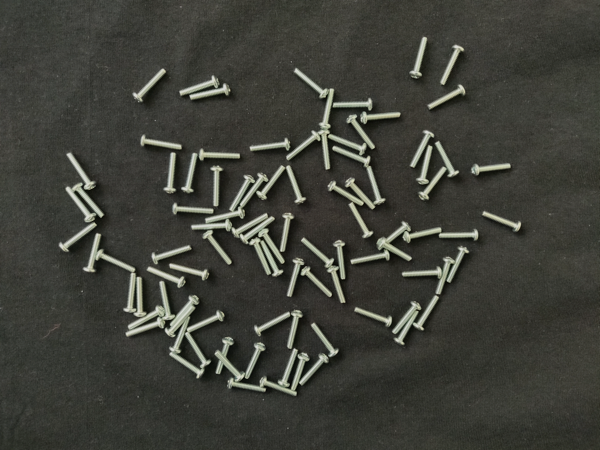longscrew: (58, 221, 100, 254), (66, 151, 100, 191), (71, 182, 106, 220), (132, 67, 167, 104), (438, 44, 467, 87), (293, 67, 330, 100), (65, 186, 97, 224), (202, 230, 234, 267), (256, 164, 287, 202), (284, 131, 322, 162), (227, 173, 256, 213), (164, 305, 197, 340), (301, 237, 336, 270), (408, 129, 436, 170), (346, 114, 377, 151), (239, 172, 269, 210), (427, 84, 467, 112), (377, 220, 412, 252), (95, 249, 138, 275), (240, 215, 276, 246), (418, 166, 449, 202), (311, 322, 341, 359), (213, 350, 247, 382), (298, 354, 330, 388), (392, 300, 422, 336), (258, 229, 287, 266), (253, 311, 291, 339), (259, 240, 287, 278), (347, 202, 375, 240), (301, 267, 334, 299), (345, 178, 377, 211), (169, 295, 200, 329), (185, 310, 227, 335), (169, 352, 206, 380), (184, 332, 212, 369), (413, 295, 440, 333), (434, 140, 461, 178), (231, 213, 270, 239), (393, 310, 420, 347), (145, 266, 188, 289), (178, 75, 221, 98), (327, 181, 365, 207), (243, 342, 268, 381), (151, 244, 193, 267), (481, 210, 523, 233), (376, 237, 413, 263), (277, 348, 301, 388), (447, 245, 471, 285), (127, 306, 165, 331), (124, 317, 167, 339), (249, 237, 272, 278), (286, 165, 309, 206), (331, 145, 372, 168), (434, 256, 457, 297), (169, 316, 193, 355), (327, 134, 369, 156), (409, 36, 430, 80), (326, 265, 348, 306), (365, 165, 387, 206), (82, 233, 103, 275), (214, 337, 236, 377), (259, 377, 299, 399), (189, 83, 232, 103), (353, 307, 393, 328), (289, 354, 311, 392), (285, 310, 305, 351), (286, 258, 306, 299), (169, 262, 212, 281), (181, 152, 200, 195), (319, 87, 337, 132), (140, 134, 184, 152), (416, 145, 435, 186), (158, 281, 176, 323), (204, 207, 246, 225), (350, 249, 391, 267), (402, 226, 443, 244), (226, 378, 269, 395), (162, 152, 179, 195), (249, 136, 292, 153), (316, 129, 333, 172), (279, 212, 295, 254), (199, 147, 242, 162), (470, 162, 512, 177), (171, 202, 215, 216), (123, 273, 138, 314), (360, 111, 403, 125), (401, 266, 444, 280), (333, 98, 375, 112), (438, 228, 480, 242), (333, 240, 347, 281), (190, 220, 234, 233), (211, 165, 224, 209), (134, 277, 147, 318)
